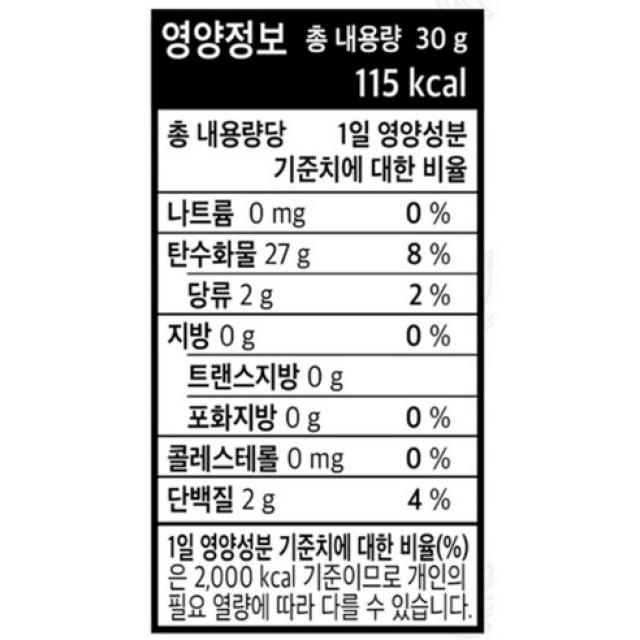Nutrition Label: (140, 1, 504, 640)
